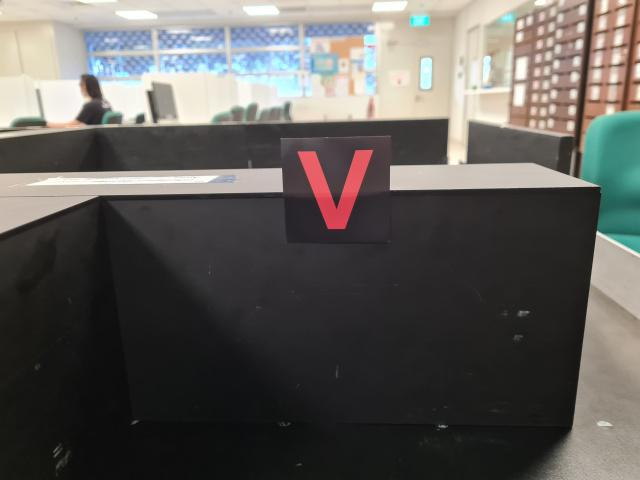v: (279, 135, 391, 245)
